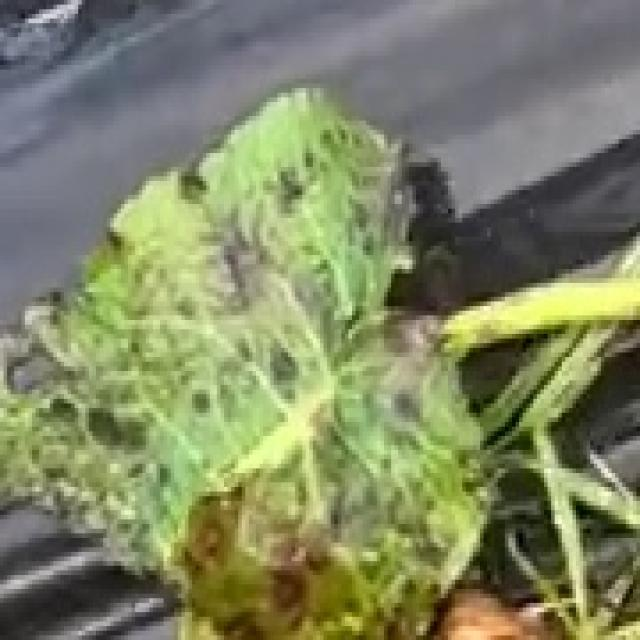organic waste: (0, 111, 498, 594)
